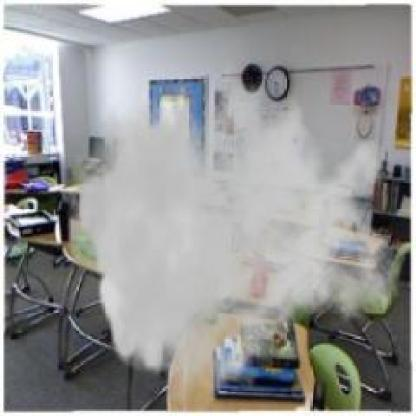Smoke: (65, 41, 403, 408)
